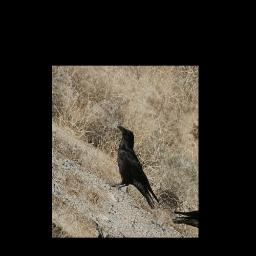Crow: (95, 122, 177, 215)
